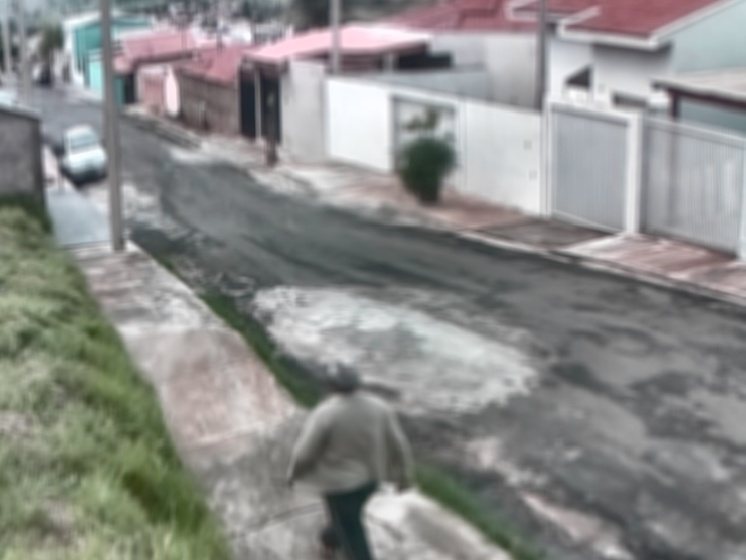person: (285, 357, 412, 560)
